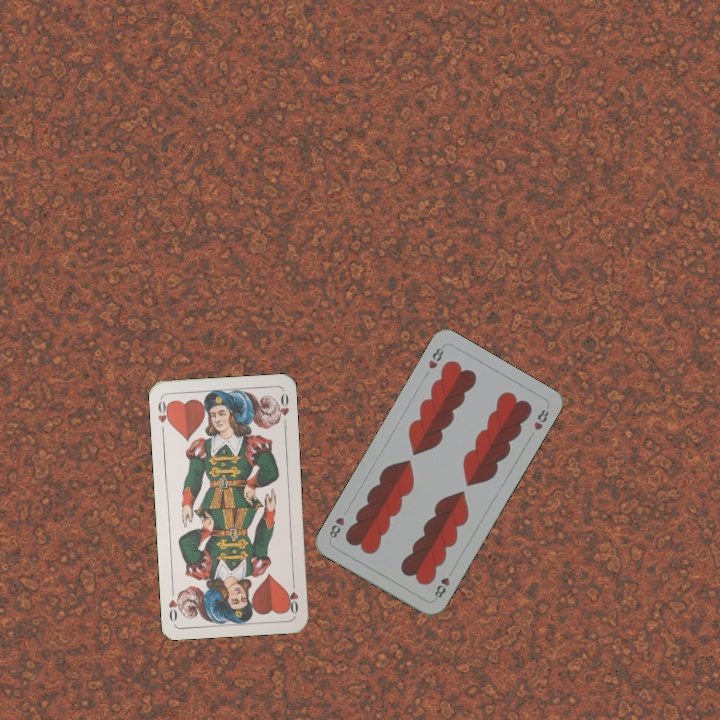H8: (430, 565, 456, 601), (424, 342, 446, 372)
HO: (154, 395, 173, 436), (283, 576, 301, 616)
